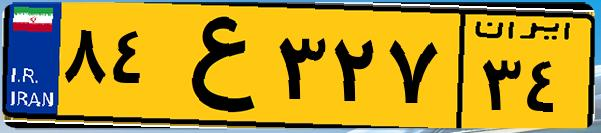2: (330, 28, 385, 110)
3: (270, 28, 330, 110), (475, 38, 525, 113)
4: (525, 38, 570, 115), (110, 28, 158, 98)
7: (385, 28, 445, 110)
8: (57, 26, 110, 100)
ع: (158, 12, 270, 120)
